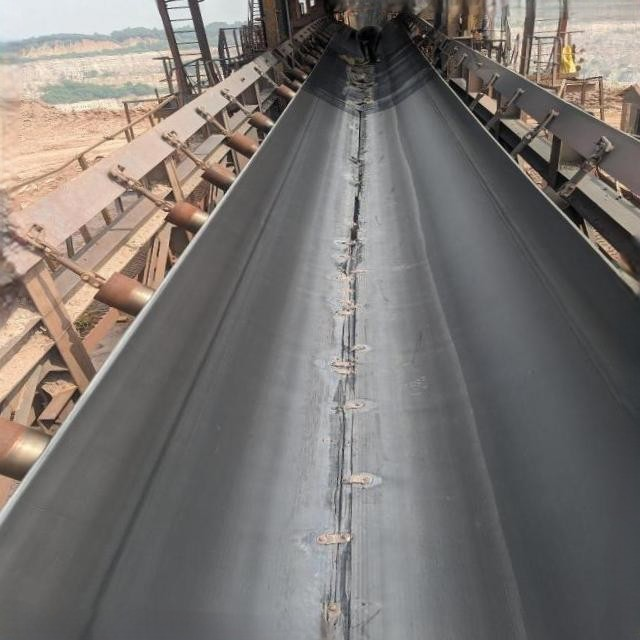Tear: (313, 60, 375, 640)
